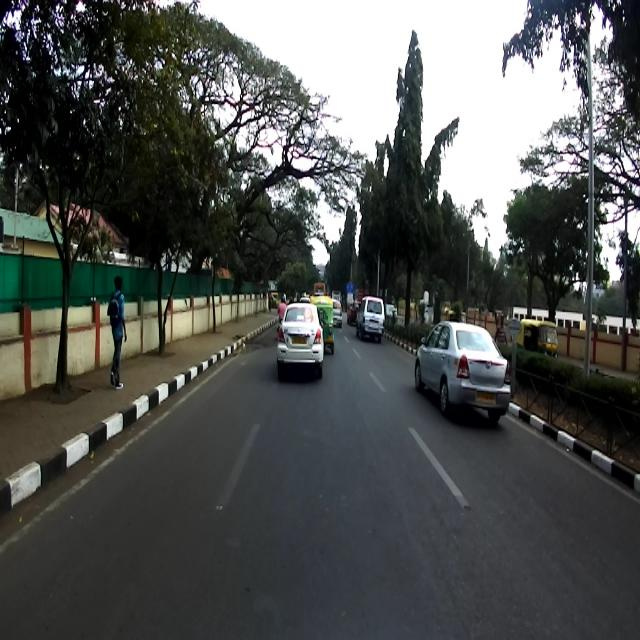Car_Maruti-Suzuki: (276, 299, 324, 376)
Car_Toyota: (414, 319, 511, 424), (355, 294, 385, 340)
